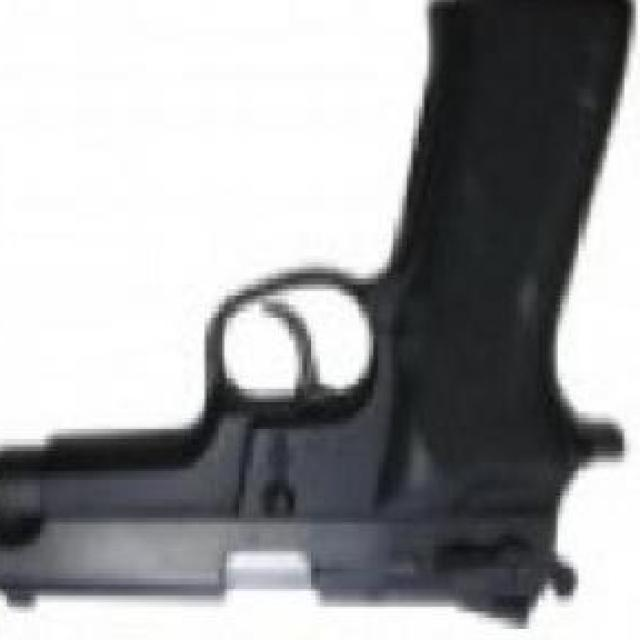pistol: (1, 0, 616, 634)
